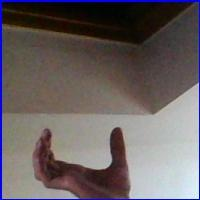space: (30, 121, 146, 198)
